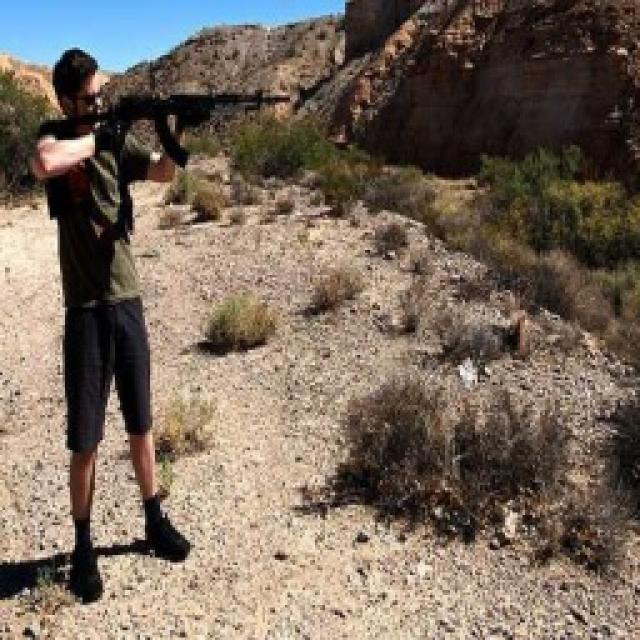long weapon: (106, 86, 306, 182)
